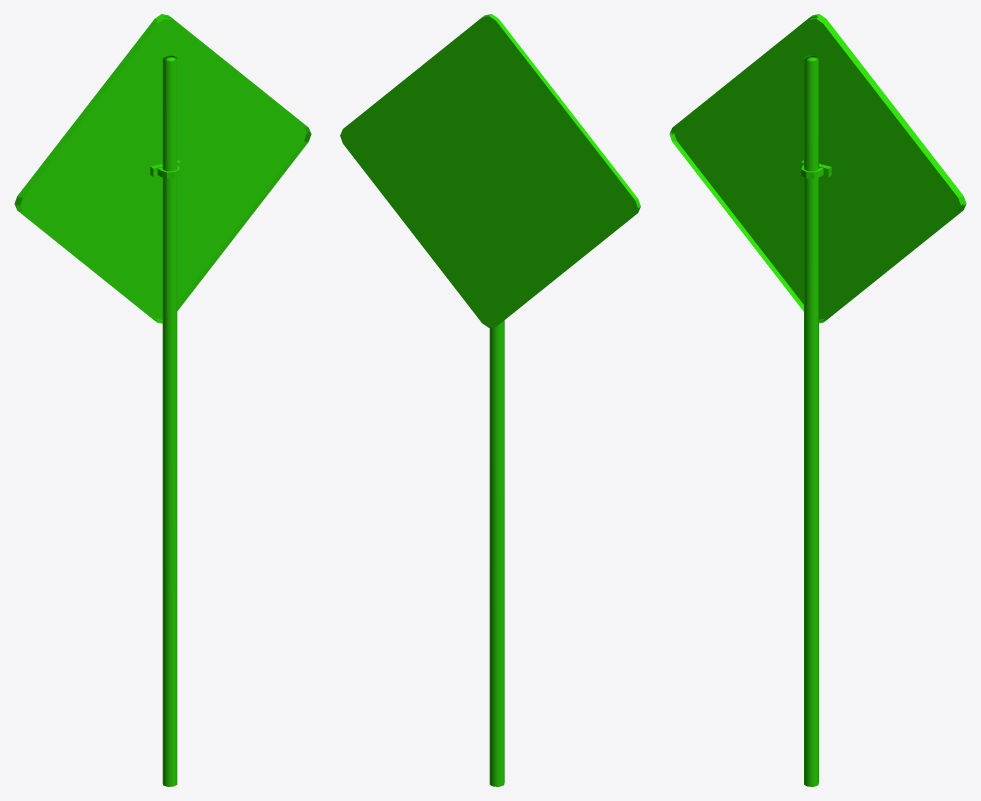
The model's file is Road_Sign_Base_02_Lod0.fbx.
3 renders of one model, left to right at view 1: azimuth 30°, elevation 25°; view 2: azimuth 150°, elevation 25°; view 3: azimuth 330°, elevation 25°, orthographic.
Parts seen in each view (by area): view 1: Road_Sign_Base_02_Lod0; view 2: Road_Sign_Base_02_Lod0; view 3: Road_Sign_Base_02_Lod0.
Part boxes in pixels (x1,y1,x2,y2): Road_Sign_Base_02_Lod0: [14, 14, 311, 786]; Road_Sign_Base_02_Lod0: [340, 14, 640, 786]; Road_Sign_Base_02_Lod0: [669, 14, 966, 786].
Bounding box in the file's own units: 73.67 × 183 × 5.71.
